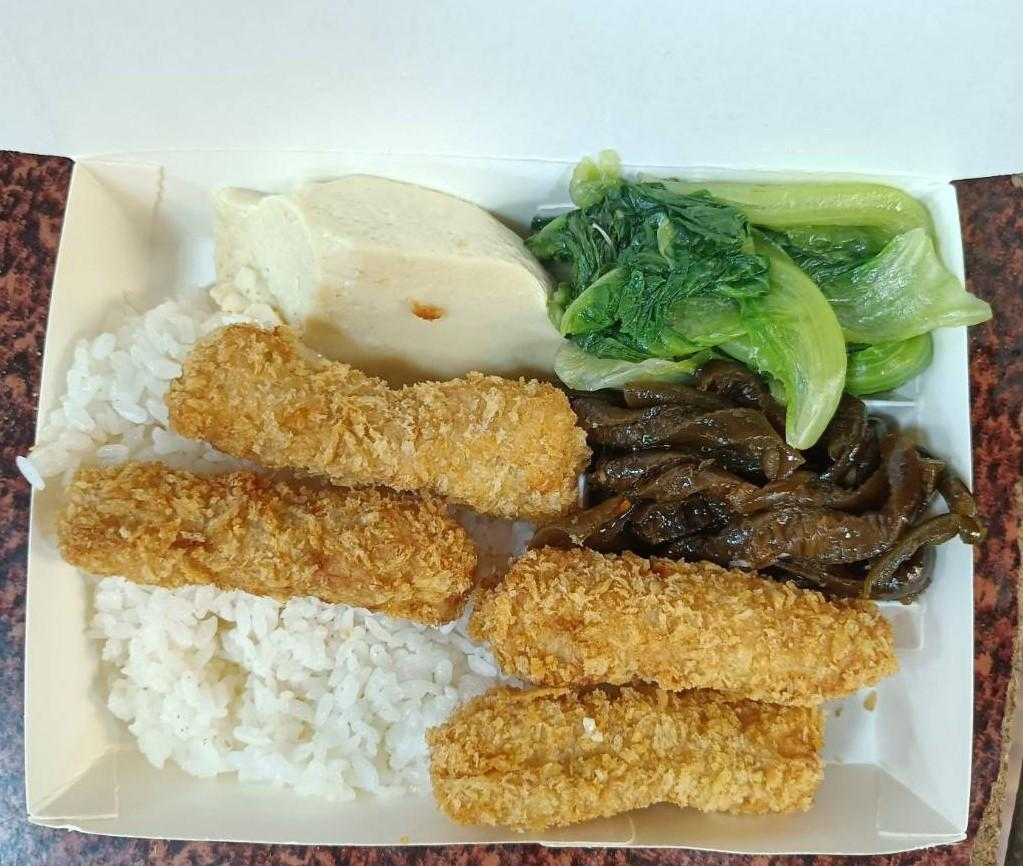big grilled chicken leg: (12, 134, 999, 860)
big herbal chicken leg: (76, 315, 537, 793)
braised fish fillet: (552, 180, 935, 377), (204, 184, 567, 364), (588, 401, 953, 569)
braised pork: (57, 324, 588, 619), (430, 545, 900, 834)
